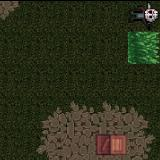Hide: (90, 123, 135, 160)
Jason: (128, 0, 160, 31)
